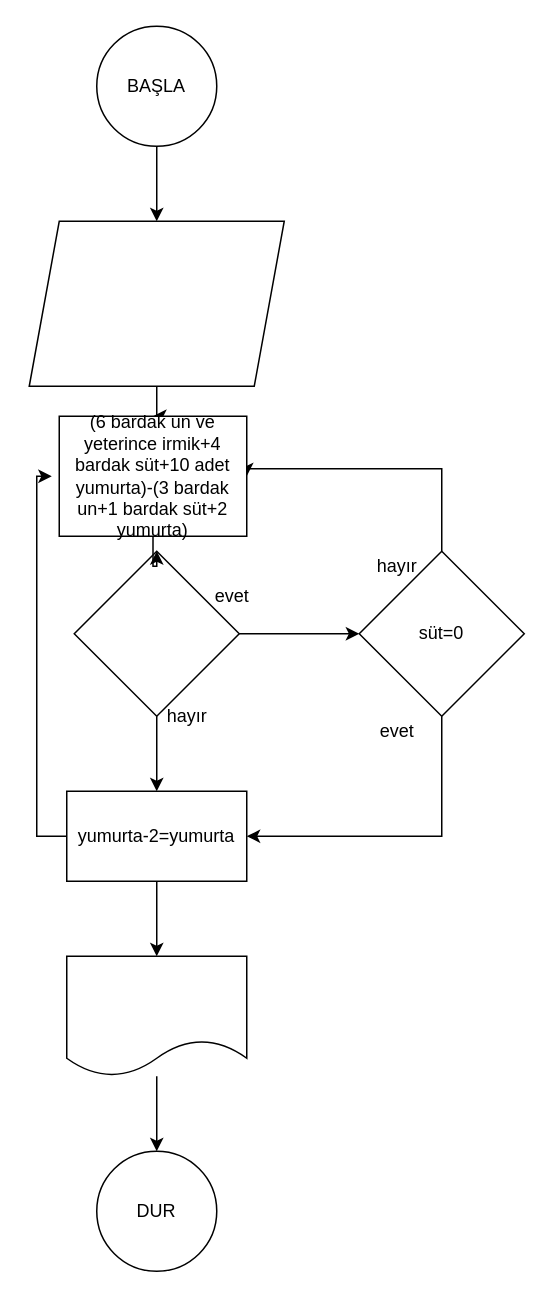
The diagram is 551 pixels wide and 1298 high, and some of its shapes have lost their labels. The box of each missing label's shape, as (x1, y1, x2, y2) in pixels:
3 bardak un ya da 2 bardak irmik, 1bardak süt, 2 adet yumurta: (28, 220, 284, 386)
un=0: (73, 550, 239, 716)
yumurta: (65, 955, 247, 1076)
